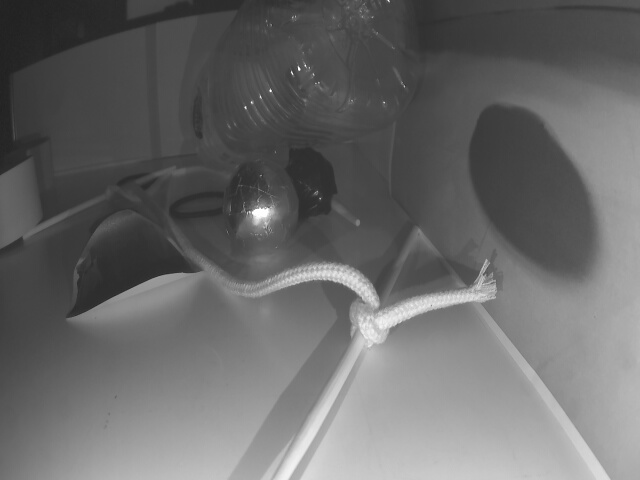Dead: (283, 145, 333, 216)
Live: (221, 160, 298, 252)
